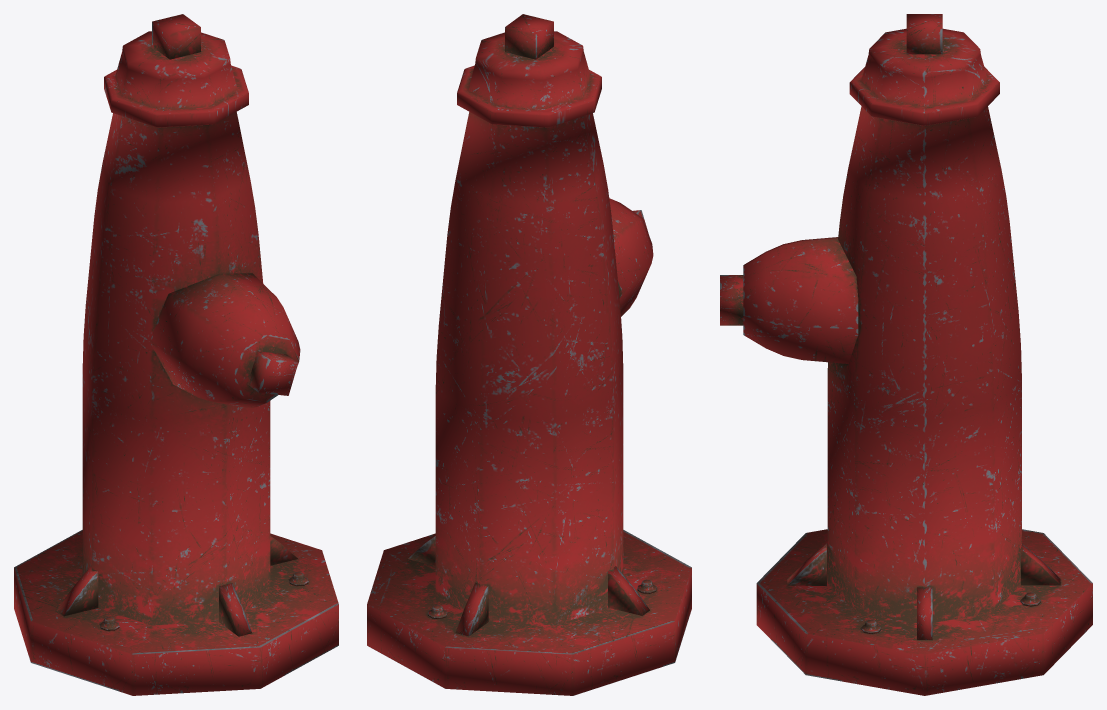
Rendered from hidrante_texturizado.fbx.
3 renders of one model, left to right at view 1: azimuth 30°, elevation 25°; view 2: azimuth 150°, elevation 25°; view 3: azimuth 270°, elevation 25°, orthographic.
Parts seen in each view (by area): view 1: hidrante_smooth; view 2: hidrante_smooth; view 3: hidrante_smooth.
Boxes of the visible parts, x1=… form: hidrante_smooth: x1=14, y1=14, x2=338, y2=695; hidrante_smooth: x1=367, y1=14, x2=691, y2=695; hidrante_smooth: x1=720, y1=14, x2=1092, y2=695.
Bounding box in the file's own units: 46.26 × 91.53 × 51.28.
Materials: 1 (1 with a texture image).
